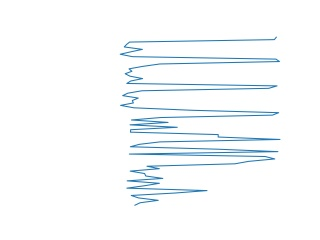crevasseRiverChannelBar: (125, 161, 273, 206)
majorRiverBedLagDeposit: (123, 120, 283, 161)
majorRiverChannelBar: (118, 34, 283, 113)
